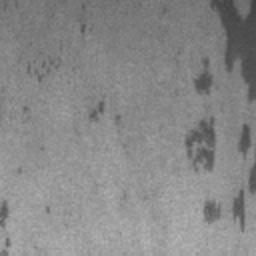Red iron sheet: (194, 0, 256, 100), (203, 124, 256, 232), (185, 117, 216, 172), (27, 56, 61, 82), (89, 100, 121, 125), (0, 200, 10, 256), (0, 0, 18, 10), (80, 24, 86, 34), (23, 106, 30, 113), (17, 167, 23, 174)
